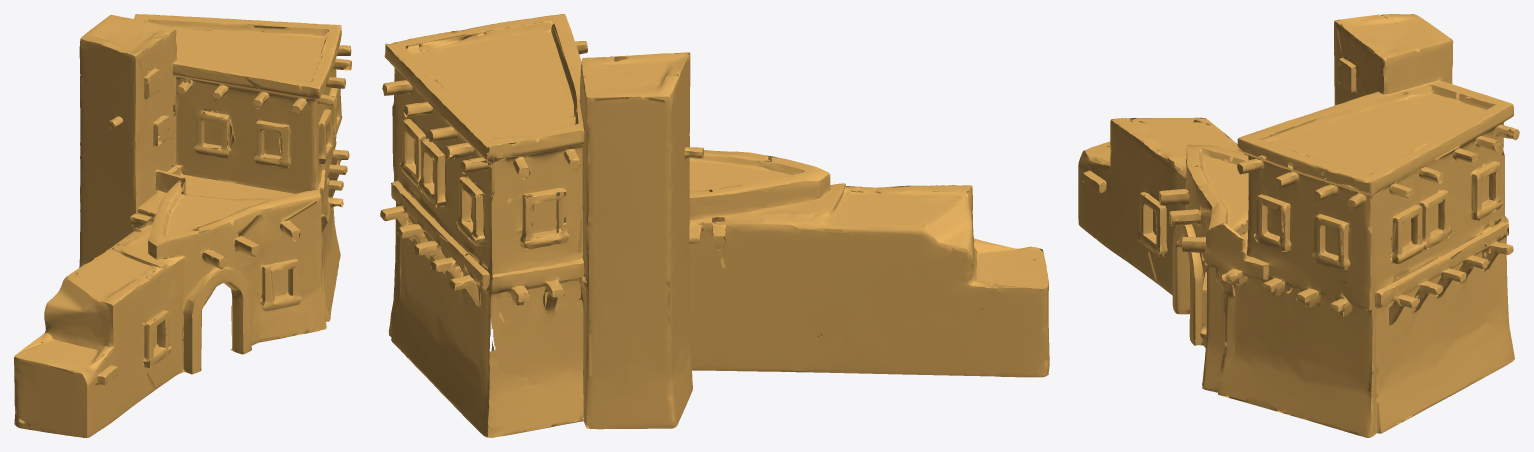
Rendered from buildings_8.fbx.
3 views of the same model, side by side, from view 1: azimuth 30°, elevation 25°; view 2: azimuth 150°, elevation 25°; view 3: azimuth 270°, elevation 25° (orthographic). The views are drawn at different scales.
Visible parts, largest first — view 1: Retopo_image_Stylized_architectural_model_of_a_building_4fc3; view 2: Retopo_image_Stylized_architectural_model_of_a_building_4fc3; view 3: Retopo_image_Stylized_architectural_model_of_a_building_4fc3.
Boxes of the visible parts, x1,y1,x2,y2 form: Retopo_image_Stylized_architectural_model_of_a_building_4fc3: [14, 14, 351, 437]; Retopo_image_Stylized_architectural_model_of_a_building_4fc3: [380, 14, 1049, 437]; Retopo_image_Stylized_architectural_model_of_a_building_4fc3: [1078, 14, 1519, 437].
Bounding box in the file's own units: 5165 × 3059 × 4114.
